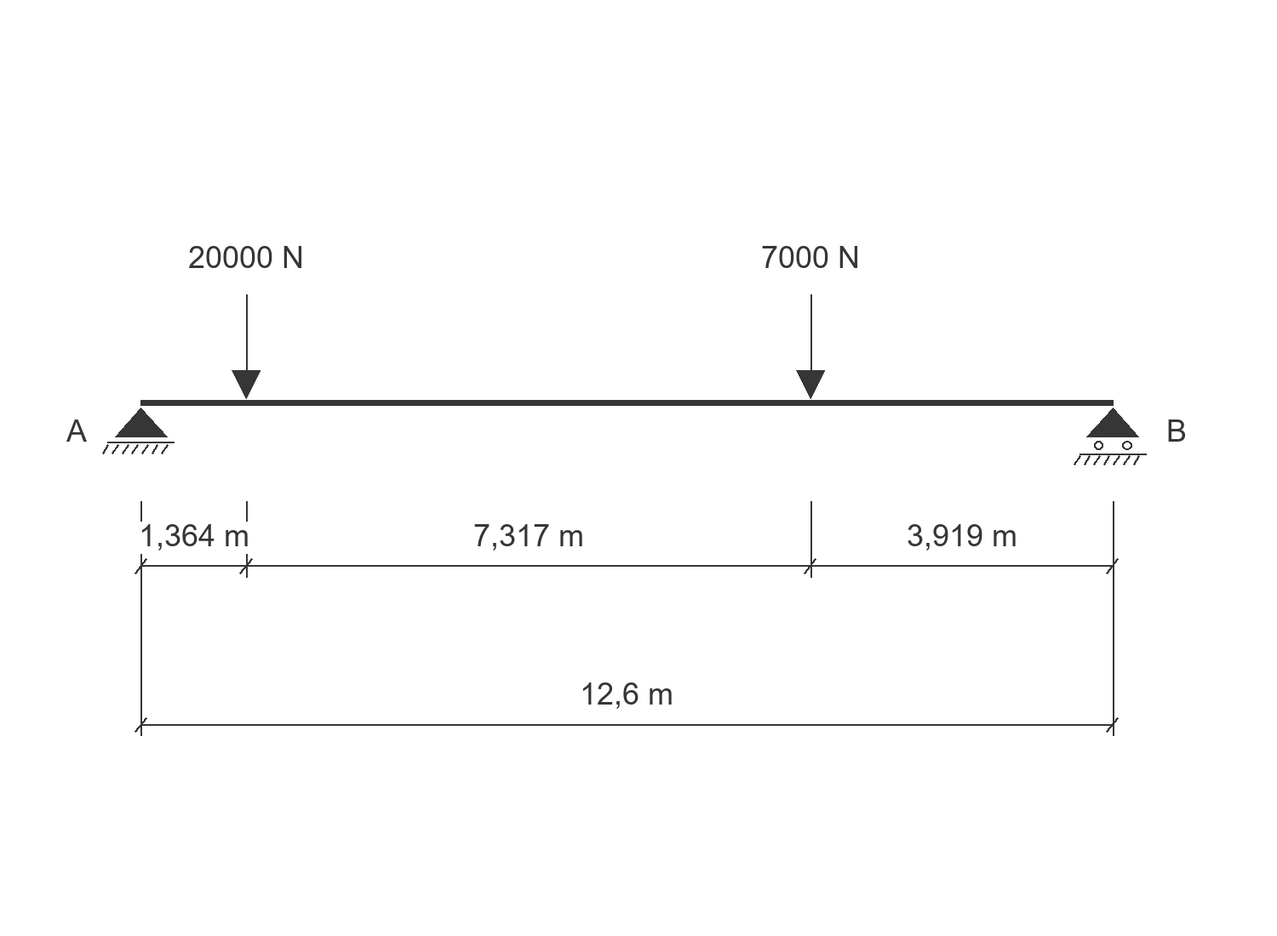pin_support: (102, 408, 175, 454)
point_load: (232, 294, 261, 399), (796, 294, 825, 399)
roller_support: (1074, 408, 1147, 465)
